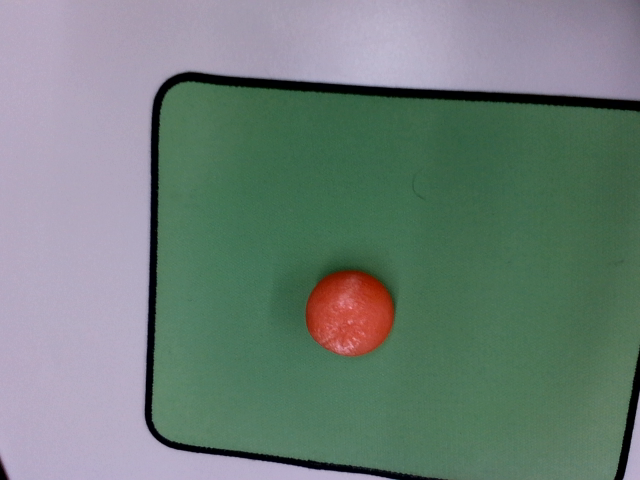orange: (298, 262, 401, 363)
